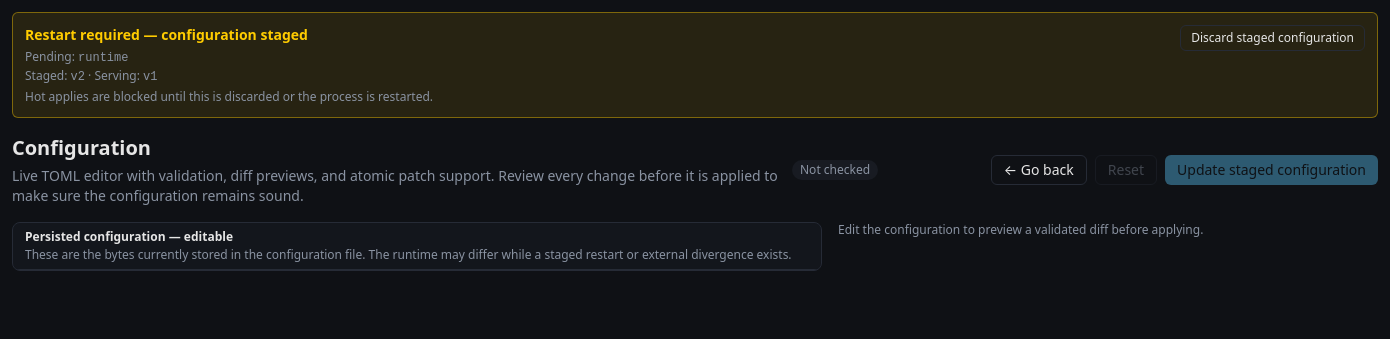
raw configuration recovery preserves reviewed operation identity › failed staged discard stays visible and a successful retry refreshes pending state
What coordinates should you click on to do the following:
click the button "Discard staged configuration"
I would click on:
 (1273, 38)
Its box is [1180,25,1365,51].
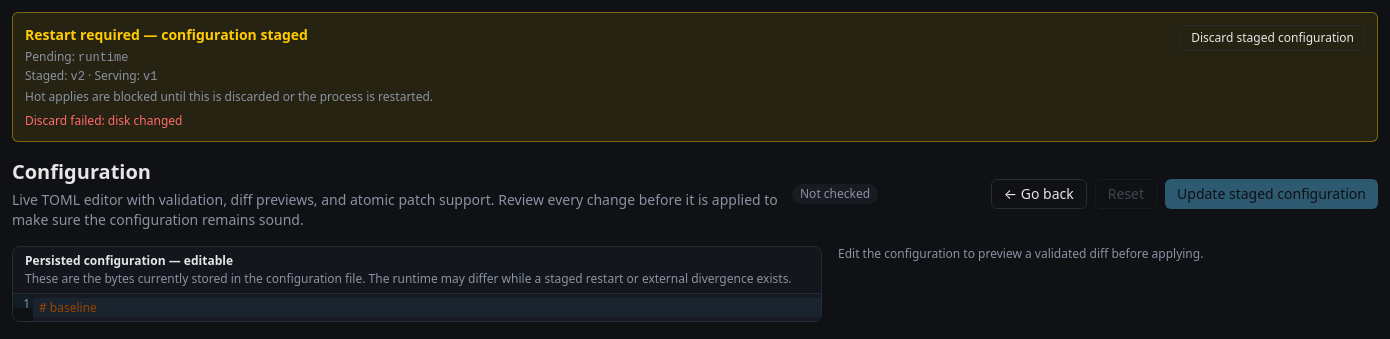
Expected: the text "Restart required — configuration staged" is shown, [25,25,308,44]
Expected: the text "Discard failed: disk changed" is shown, [25,112,182,129]
What coordinates should you click on to do the following:
click the button "Discard staged configuration"
I would click on:
 (1273, 38)
Its box is [1180,25,1365,51].
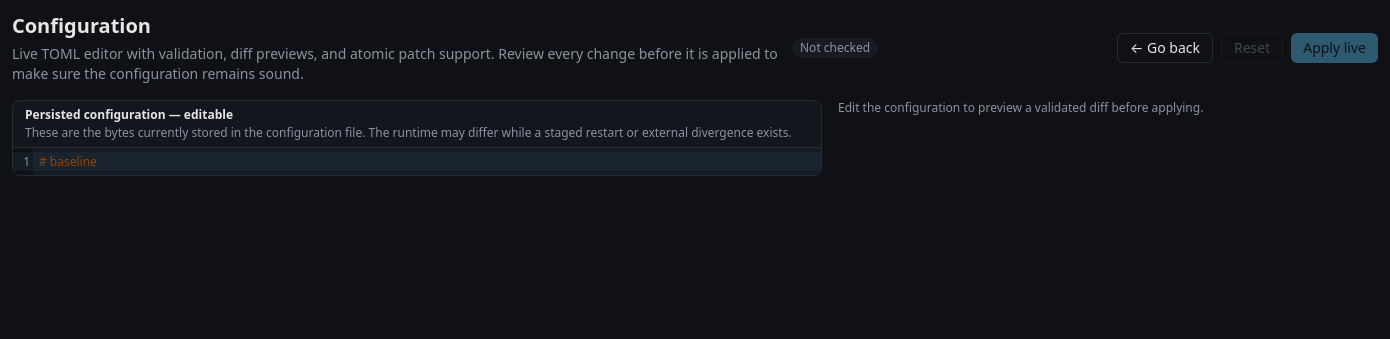
Expected: the text "Restart required — configuration staged" is gone
